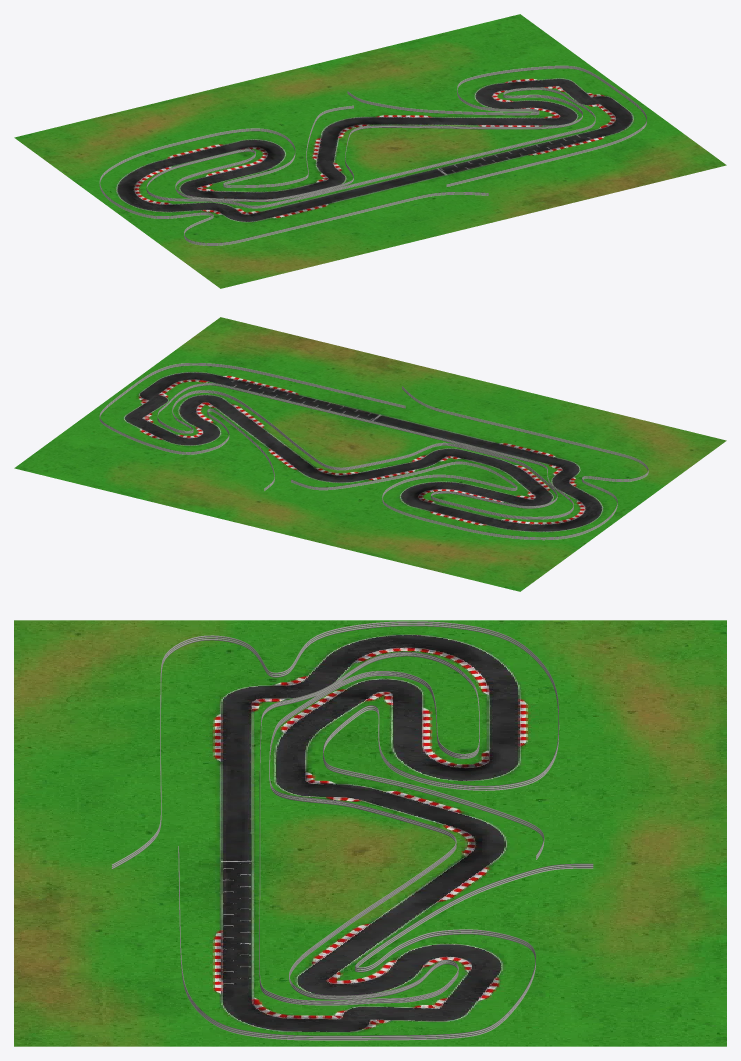
Rendered from catalunya.glb.
The picture shows the model from 3 angles, top to bottom: view 1: azimuth 30°, elevation 25°; view 2: azimuth 150°, elevation 25°; view 3: azimuth 270°, elevation 25°; orthographic projection. The views are drawn at different scales.
Visible parts, largest first — view 1: Object_19, Object_3; view 2: Object_19, Object_3; view 3: Object_19, Object_3, Object_5.
Boxes of the visible parts, x1,y1,x2,y2 form: Object_19: (14,14,726,288); Object_3: (99,65,646,245); Object_19: (14,317,726,591); Object_3: (99,363,648,540); Object_19: (14,620,726,1046); Object_3: (112,621,593,1040); Object_5: (214,651,526,1029).
Bounding box in the file's own units: 225 × 1.27 × 159.
Materials: 3 (3 with a texture image).
